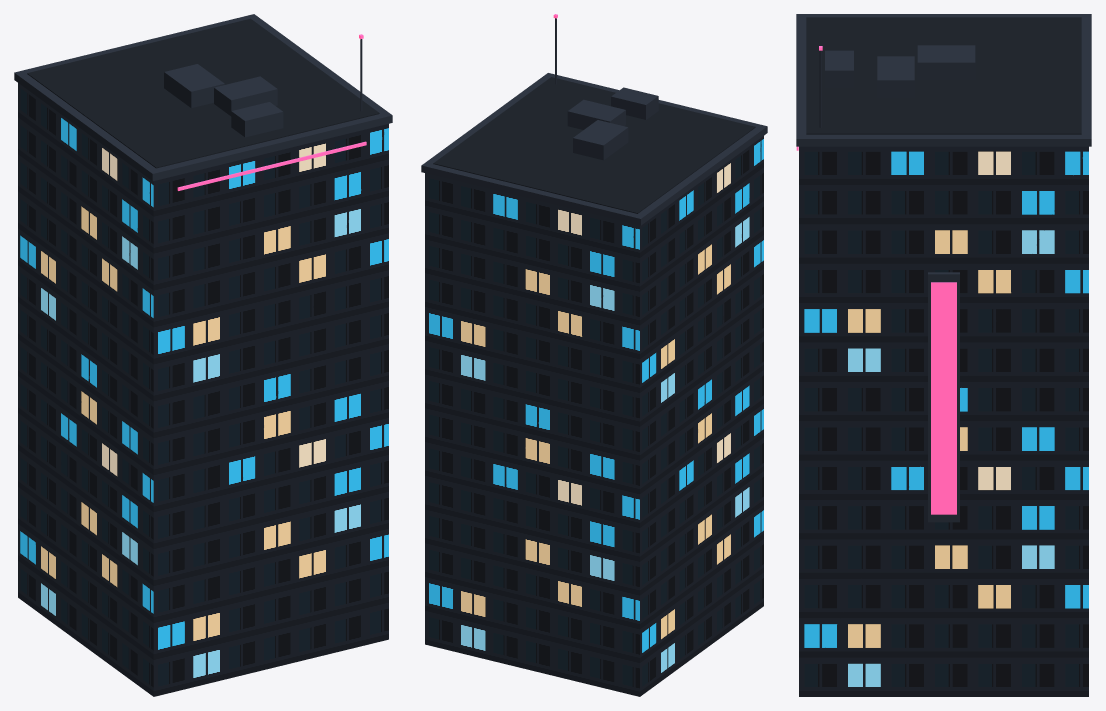
Rendered from building_a.glb.
3 renders of one model, left to right at view 1: azimuth 30°, elevation 25°; view 2: azimuth 150°, elevation 25°; view 3: azimuth 270°, elevation 25°, orthographic. The views are drawn at different scales.
Visible parts, largest first — view 1: building; view 2: building; view 3: building.
Boxes of the visible parts, left/top/right/bottom form: building: left=14, top=14, right=392, bottom=696; building: left=421, top=14, right=767, bottom=696; building: left=796, top=14, right=1091, bottom=696.
Size of the model in its own units: 21.06 by 48.83 by 20.4.
5 materials, 1 textured.
